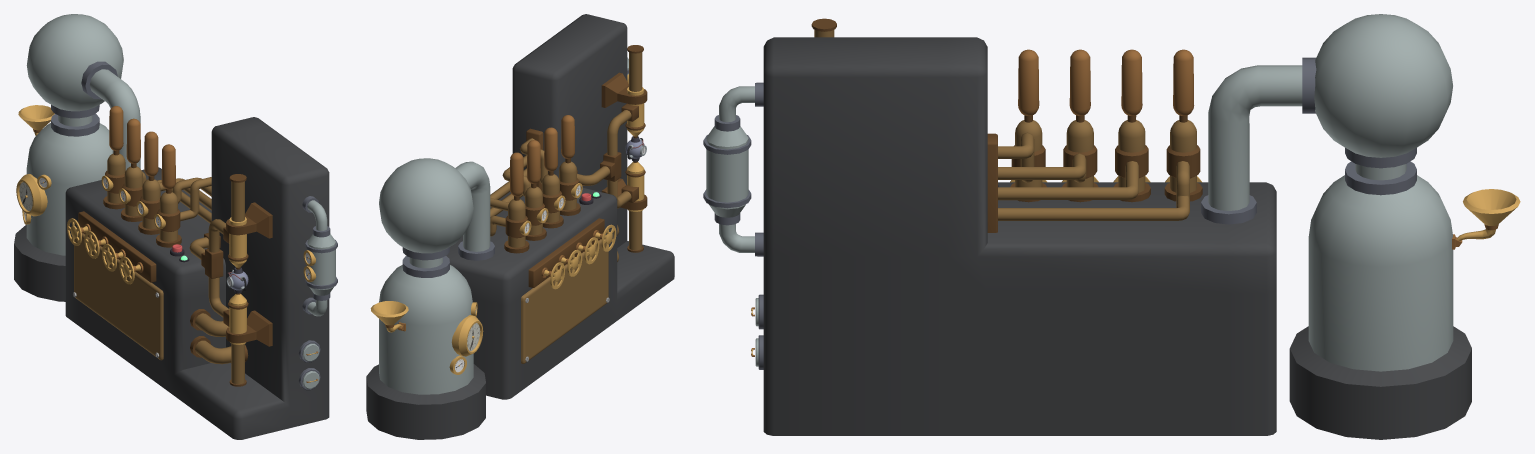
The model's file is SteamCore (4).fbx.
3 renders of one model, left to right at view 1: azimuth 30°, elevation 25°; view 2: azimuth 150°, elevation 25°; view 3: azimuth 270°, elevation 25°, orthographic. The views are drawn at different scales.
Parts seen in each view (by area): view 1: SCM_Body, SCM_Panel, SCM_Piston_Top, SCM_Piston_Bottom, Steamcore_Body; view 2: SCM_Body, SCM_Panel, SCM_Piston_Top, SCM_Piston_Bottom, Steamcore_Body, SCM_Valve_03, SCM_Valve_02, SCM_Valve_04; view 3: SCM_Body.
Boxes of the visible parts, box(x1,y1,x2,y2) form: SCM_Body: box(14, 14, 337, 439); SCM_Panel: box(74, 233, 163, 360); SCM_Piston_Top: box(229, 174, 246, 221); SCM_Piston_Bottom: box(229, 343, 246, 386); Steamcore_Body: box(226, 267, 248, 293); SCM_Body: box(366, 14, 674, 439); SCM_Panel: box(521, 239, 608, 363); SCM_Piston_Top: box(627, 45, 643, 91); SCM_Piston_Bottom: box(627, 211, 643, 252); Steamcore_Body: box(625, 136, 646, 161); SCM_Valve_03: box(584, 237, 599, 264); SCM_Valve_02: box(567, 249, 582, 276); SCM_Valve_04: box(601, 224, 616, 251); SCM_Body: box(703, 14, 1520, 439).
Size of the model in its own units: 151 by 304 by 590.
29 materials, 3 textured.
